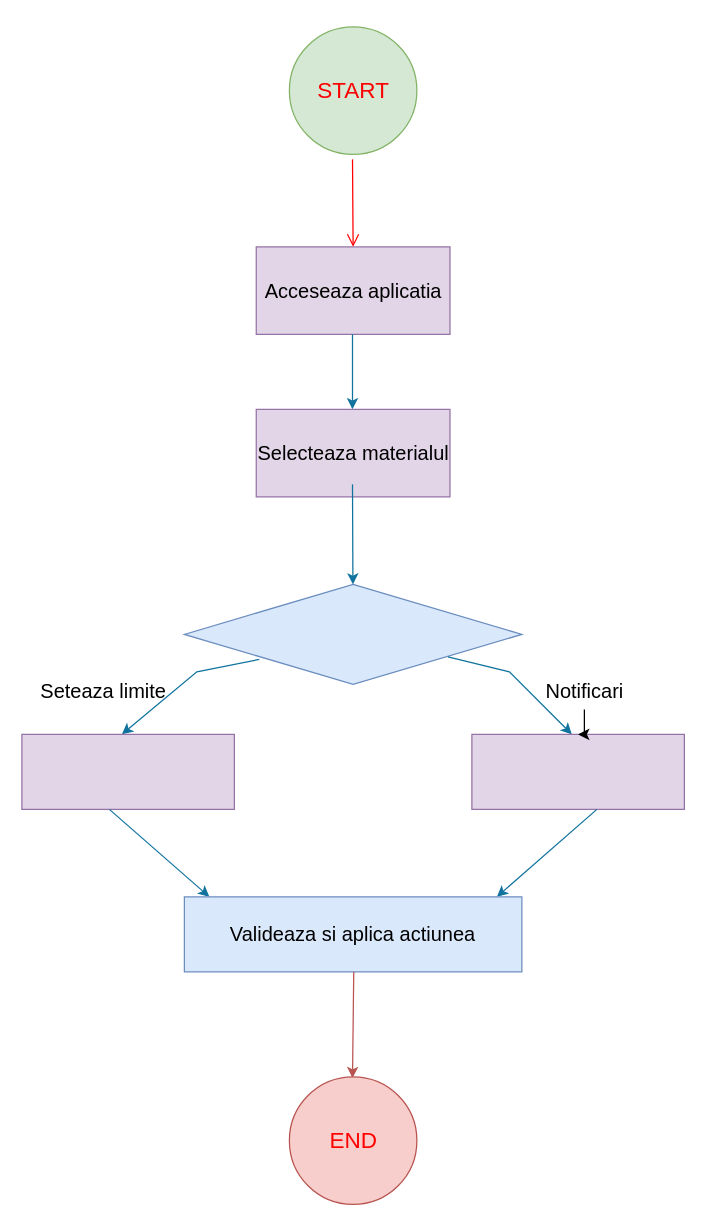
Image size: 706x1231. Some labels were removed from this diagram. Here are the shapes that lost their labels. From the top down, the centre of each, then its label:
pixel 352 633: Seteaza limite sau notificari?
pixel 127 771: Setare limite de acces
pixel 577 771: Primeste notifcari
